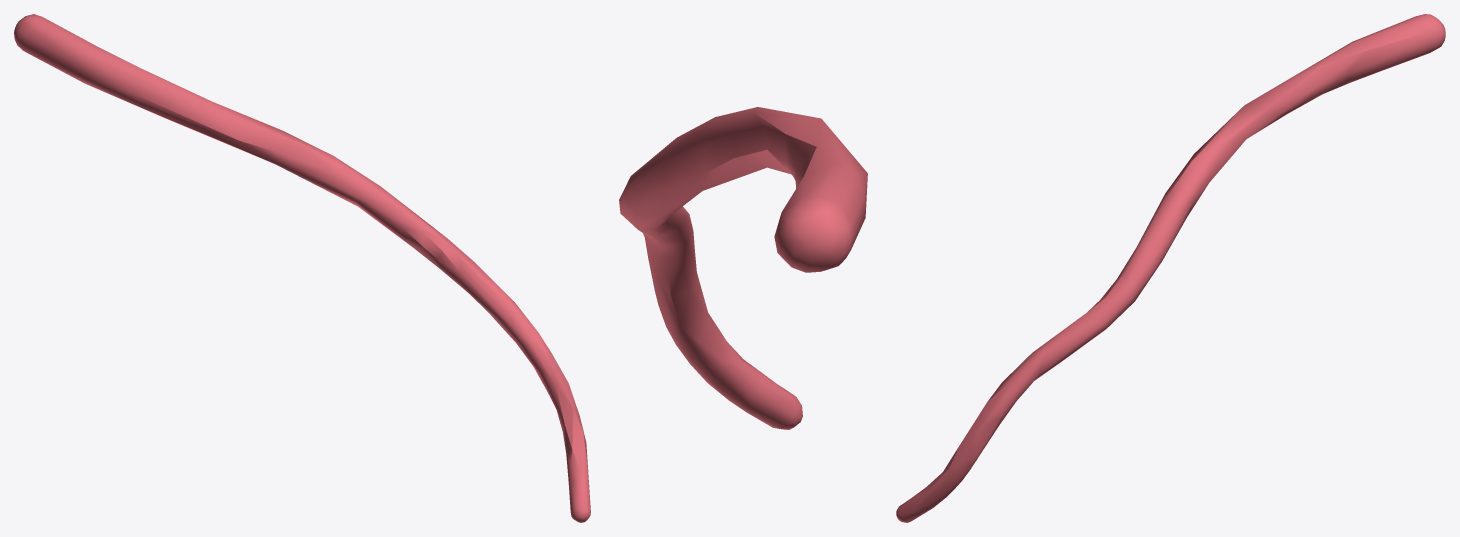
File: fma15804_fj3099.glb
The picture shows the model from 3 angles, left to right: view 1: azimuth 30°, elevation 25°; view 2: azimuth 150°, elevation 25°; view 3: azimuth 270°, elevation 25°; orthographic projection. The views are drawn at different scales.
Visible parts, largest first — view 1: FMA15804_FJ3099; view 2: FMA15804_FJ3099; view 3: FMA15804_FJ3099.
Part boxes in pixels (box(x1,y1,x2,y2)): FMA15804_FJ3099: box(14, 14, 590, 522); FMA15804_FJ3099: box(619, 107, 867, 429); FMA15804_FJ3099: box(896, 14, 1445, 522).
Size of the model in its own units: 0.0145 by 0.016 by 0.0215.
